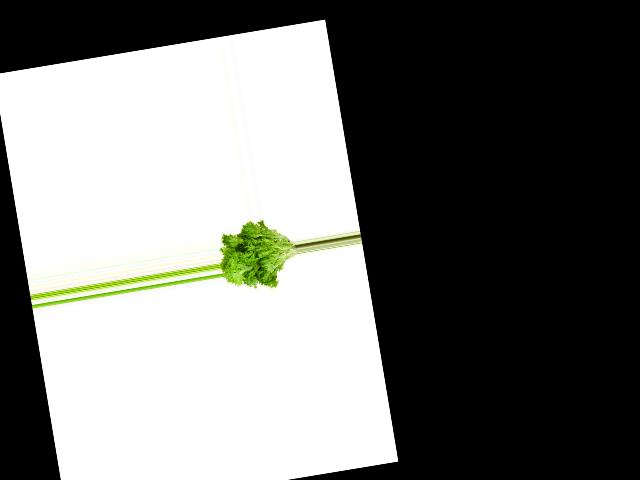lettuce: (214, 211, 303, 296)
